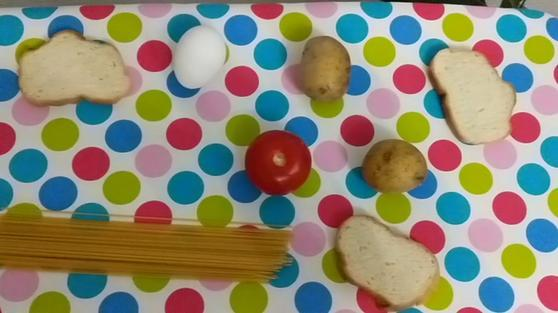egg: (172, 21, 234, 90)
potato: (359, 136, 432, 196), (296, 32, 355, 106)
spaghetti: (2, 213, 304, 277)
tomato: (237, 125, 319, 204)
white_bread: (332, 209, 460, 310), (417, 33, 521, 153), (11, 18, 138, 112)
